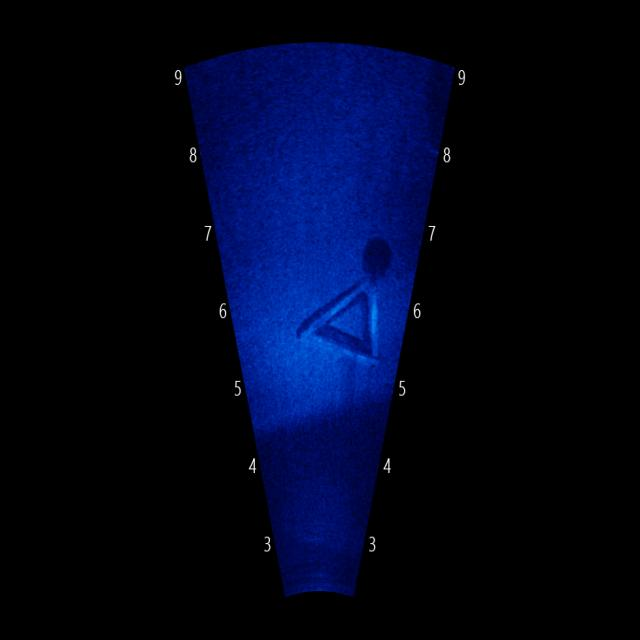triangle: (288, 264, 394, 379)
